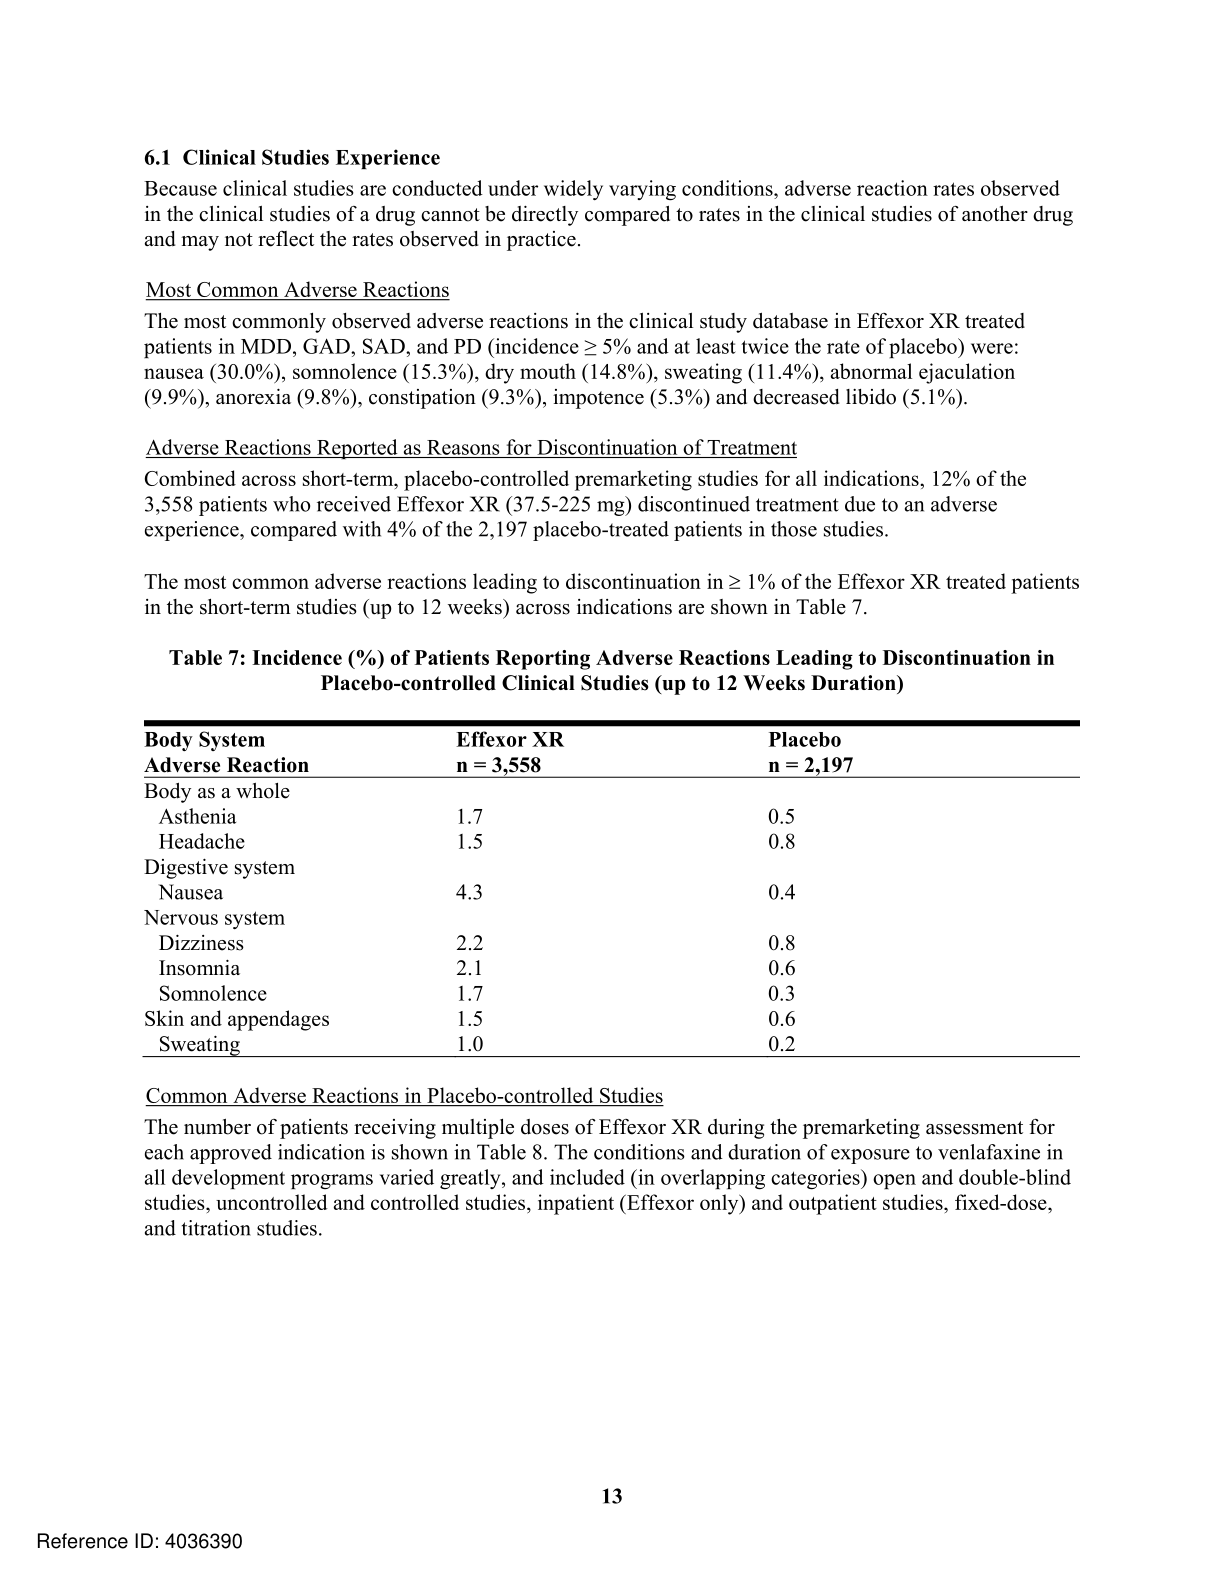partial_lined: (141, 717, 1084, 1059)
